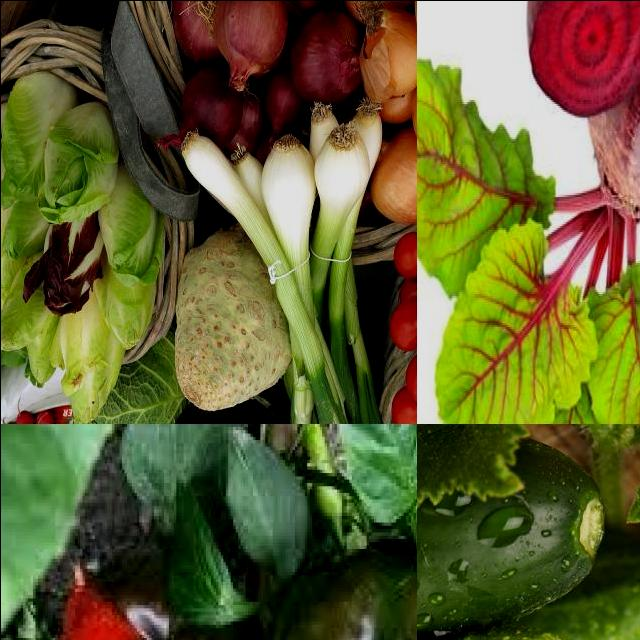beet: (523, 1, 640, 119), (589, 1, 640, 220)
bell_pepper: (47, 517, 245, 640)
cucumber: (417, 424, 612, 640)
onion: (290, 2, 364, 102), (169, 66, 244, 150), (217, 1, 288, 89), (370, 130, 417, 226), (365, 11, 417, 93), (171, 1, 228, 69)
tomato: (391, 304, 417, 350), (395, 234, 417, 279), (392, 388, 417, 424), (408, 353, 417, 406)
